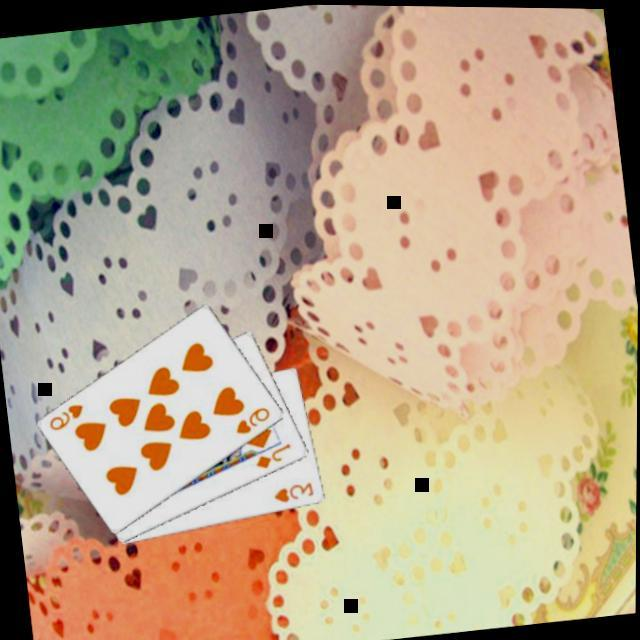3H: (269, 478, 315, 507)
9H: (229, 403, 274, 439), (42, 400, 87, 436)
JD: (250, 439, 295, 474)
